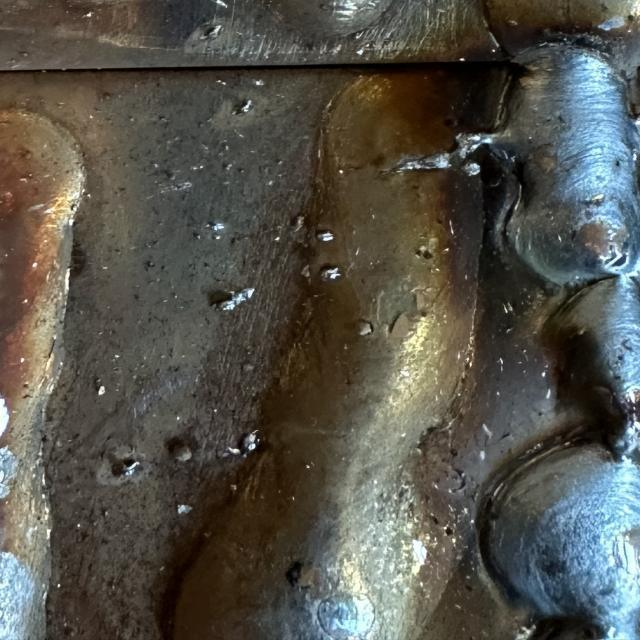Excess Reinforcement: (490, 446, 638, 638), (505, 44, 638, 219), (483, 0, 639, 116), (543, 275, 640, 426), (507, 185, 638, 284), (397, 134, 495, 171), (516, 625, 537, 640)
Spatters: (607, 414, 640, 462), (547, 621, 598, 640), (217, 288, 255, 310), (167, 438, 193, 463), (112, 458, 140, 476), (240, 430, 260, 454), (285, 561, 303, 586), (232, 99, 253, 115), (320, 266, 342, 281), (200, 24, 223, 38), (357, 321, 373, 336), (93, 378, 105, 395), (293, 215, 305, 231), (177, 504, 192, 515), (317, 231, 333, 241), (192, 161, 205, 170), (97, 385, 107, 395), (145, 261, 155, 271), (18, 50, 28, 59), (253, 79, 263, 86), (83, 11, 93, 18), (223, 164, 232, 170), (193, 232, 200, 239), (307, 462, 313, 468), (134, 294, 140, 299), (160, 265, 167, 269), (113, 355, 119, 359)
